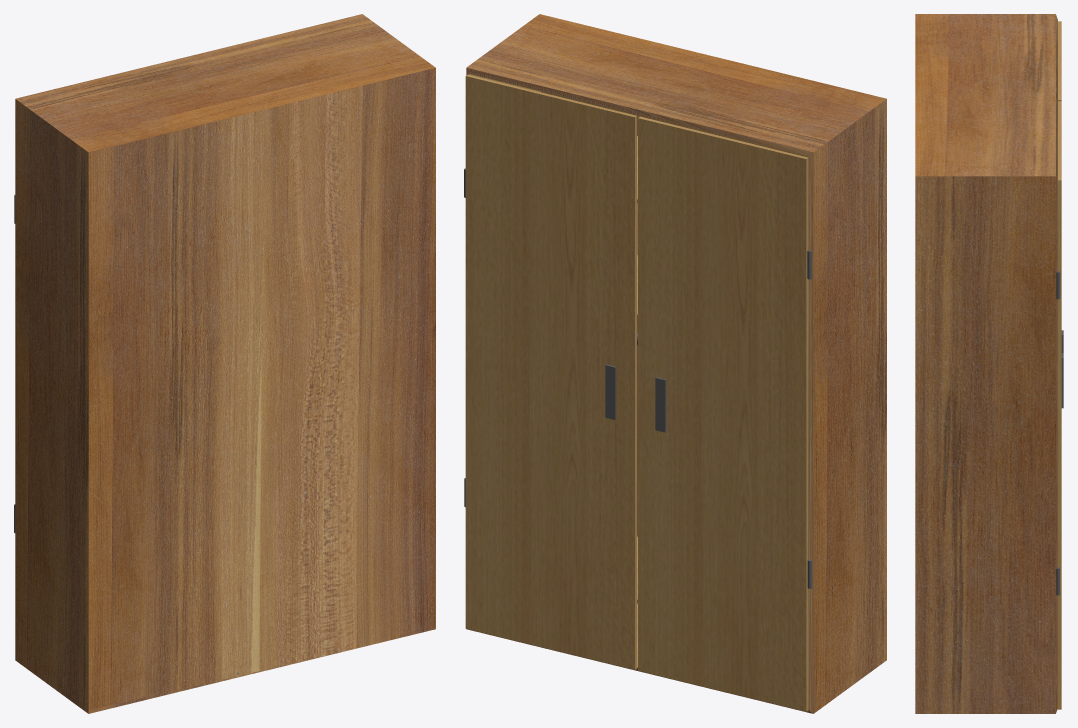
The model's file is wardrobe.fbx.
The picture shows the model from 3 angles, left to right: view 1: azimuth 30°, elevation 25°; view 2: azimuth 150°, elevation 25°; view 3: azimuth 270°, elevation 25°; orthographic projection. The views are drawn at different scales.
Parts seen in each view (by area): view 1: outside wardrobe; view 2: left door, right door, outside wardrobe, inside wardrobe; view 3: outside wardrobe, left door, right door.
Part boxes in pixels (x1,y1,x2,y2): outside wardrobe: [15, 14, 435, 713]; left door: [465, 74, 636, 669]; right door: [638, 116, 808, 711]; outside wardrobe: [466, 14, 886, 713]; inside wardrobe: [468, 74, 807, 667]; outside wardrobe: [915, 14, 1057, 713]; left door: [1057, 101, 1061, 709]; right door: [1058, 21, 1061, 101].
Bounding box in the file's own units: 1.53 × 0.5893 × 2.36.
